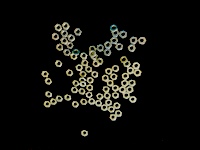nut: (120, 30, 128, 39), (130, 36, 138, 45), (138, 37, 147, 45), (115, 43, 124, 51), (104, 41, 113, 49), (104, 48, 112, 57), (120, 56, 129, 64), (55, 24, 63, 32), (62, 22, 70, 30), (74, 28, 82, 36), (61, 29, 69, 37), (52, 33, 60, 41), (60, 37, 68, 45), (56, 43, 64, 51), (80, 52, 88, 60), (110, 24, 118, 32), (128, 44, 136, 52), (97, 44, 105, 52), (124, 60, 132, 68), (133, 62, 141, 70), (127, 67, 135, 75), (134, 69, 142, 77), (112, 65, 120, 73), (110, 73, 118, 81), (122, 72, 130, 80), (119, 86, 127, 94), (115, 110, 123, 118), (110, 37, 119, 44), (41, 71, 50, 78), (68, 34, 75, 42), (112, 30, 120, 37), (89, 46, 97, 53), (89, 50, 97, 57), (91, 53, 99, 60), (97, 57, 104, 65), (93, 60, 100, 68), (81, 60, 89, 67), (55, 60, 63, 67), (45, 78, 53, 85), (76, 64, 83, 72), (85, 65, 92, 73), (79, 71, 87, 78), (66, 70, 74, 77), (105, 68, 113, 75), (122, 80, 129, 88), (129, 79, 136, 87), (127, 86, 134, 94), (123, 92, 131, 99), (129, 96, 137, 103), (112, 85, 120, 92), (87, 84, 94, 92), (45, 91, 53, 98), (65, 94, 72, 102), (78, 88, 86, 95), (86, 91, 93, 99), (80, 99, 88, 106), (88, 98, 96, 105), (104, 93, 112, 100), (112, 92, 120, 99), (95, 100, 103, 107), (105, 100, 113, 107), (114, 102, 121, 110), (101, 104, 108, 112), (67, 42, 74, 49), (64, 49, 71, 56), (73, 49, 80, 56), (71, 53, 78, 60), (92, 71, 99, 78), (102, 75, 109, 82), (107, 80, 114, 87), (87, 77, 94, 84), (73, 80, 80, 87), (80, 81, 87, 88), (44, 101, 51, 108), (72, 101, 79, 108), (103, 86, 110, 93), (97, 93, 104, 100), (108, 106, 115, 113), (110, 114, 117, 121), (81, 130, 88, 137), (79, 77, 87, 83), (56, 96, 64, 102), (71, 87, 79, 93), (50, 99, 57, 105)
